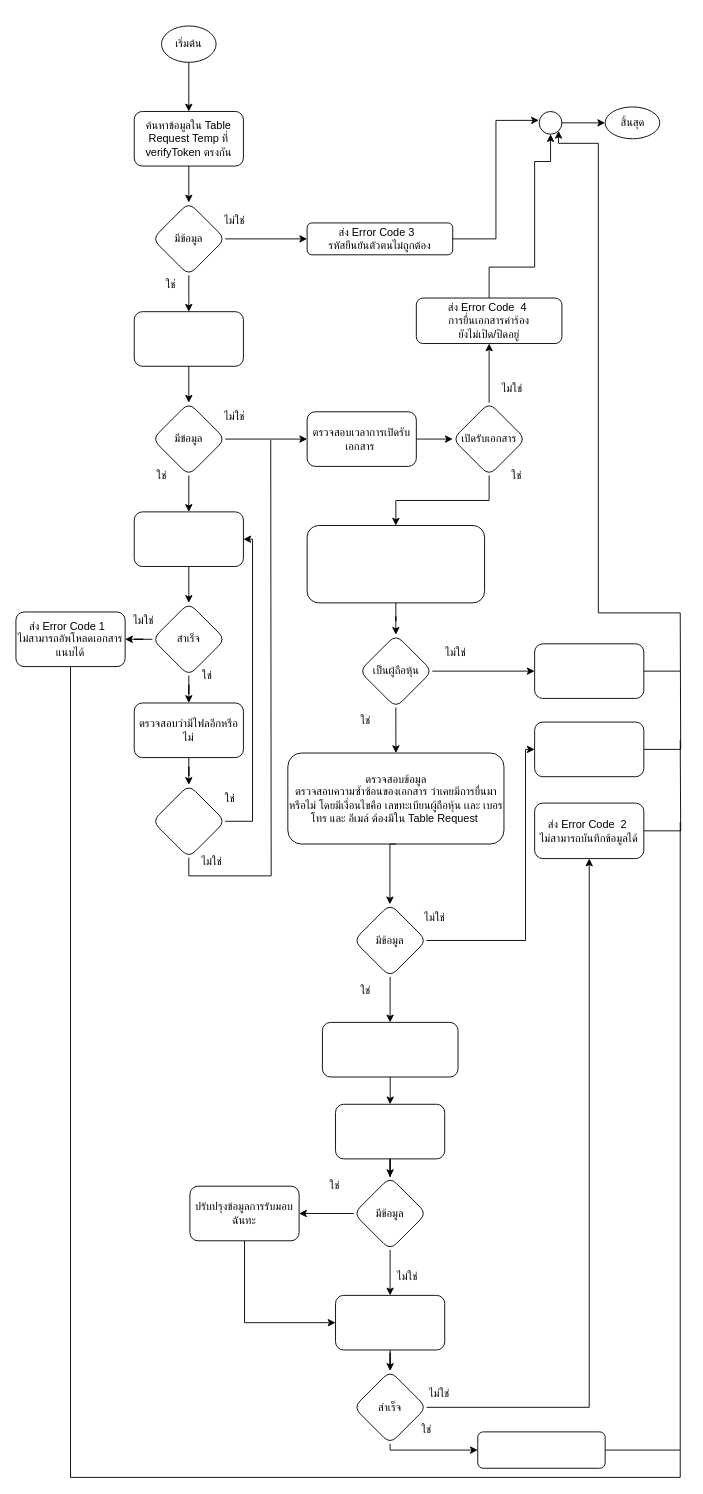
This 703x1494 diagram has some shape labels left out. The shapes that lost their labels are listed below. From the top down, each one's centre as x and y in pixels, then its label:
At point (188, 338): "ตรวจสอบไฟลแนบ".
At point (188, 538): "อัปโหลดไฟลแนบ".
At point (395, 564): "ตรวจสอบข้อมูล ตรวจสอบความเป็นผู้ถือหุ้น โดยตรวจสอบจาก Table Shareholder".
At point (589, 670): "ส่ง Error Code 6 ไม่พบข้อมูลผู้ถือหุ้นนี้ในระบบ".
At point (589, 749): "ส่ง Error Code 5 ไม่พบเอกสารคำร้องที่ตรงกับข้อมูลผู้ถือหุ้น".
At point (188, 821): "มีช้อมูล".
At point (390, 1049): "ปรับปรุงข้อมูลโดยนำข้อมูลใน table Request ที่ตรงกับ verifyToken".
At point (390, 1131): "ตรวจสอบข้อมูลการรับมอบฉันทะ จากที่ได้รับมา".
At point (390, 1322): "บันทึกข้อมูล".
At point (541, 1449): "ส่งกลับข้อมูลผู้ถือหุ้นที่ปรับปรุงแล้ว".
